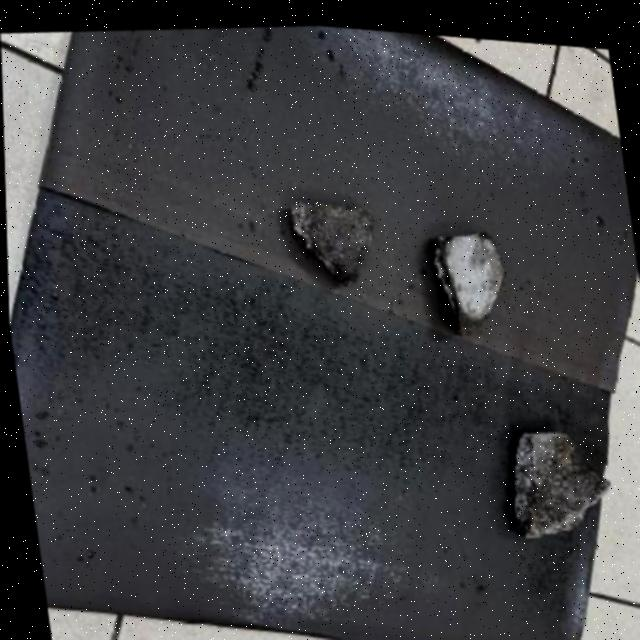Road Debris: (282, 181, 377, 283), (529, 414, 607, 529), (462, 216, 501, 293)
